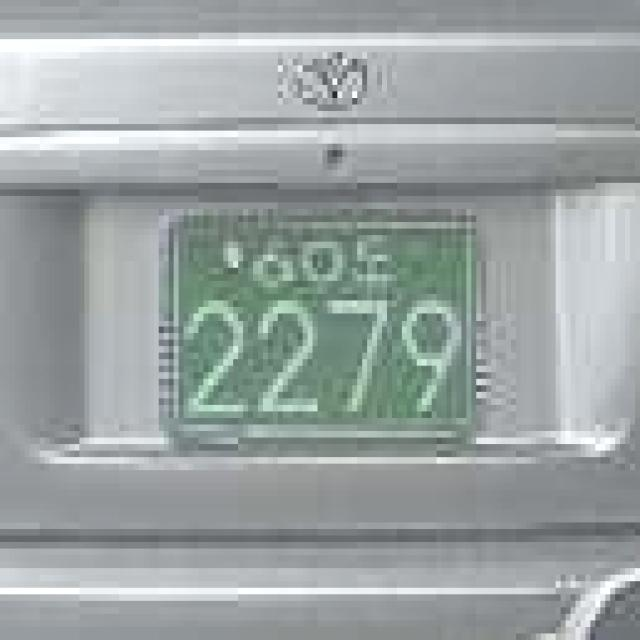illegal_plate: (153, 194, 496, 468)
